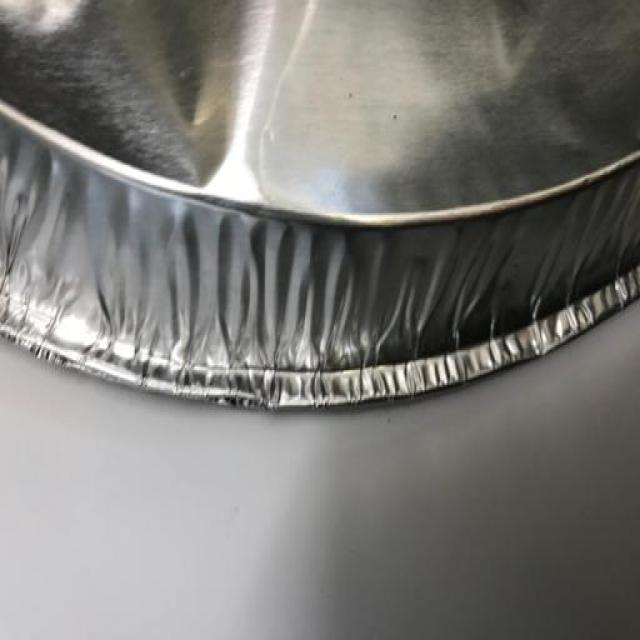metal: (0, 0, 639, 412)
